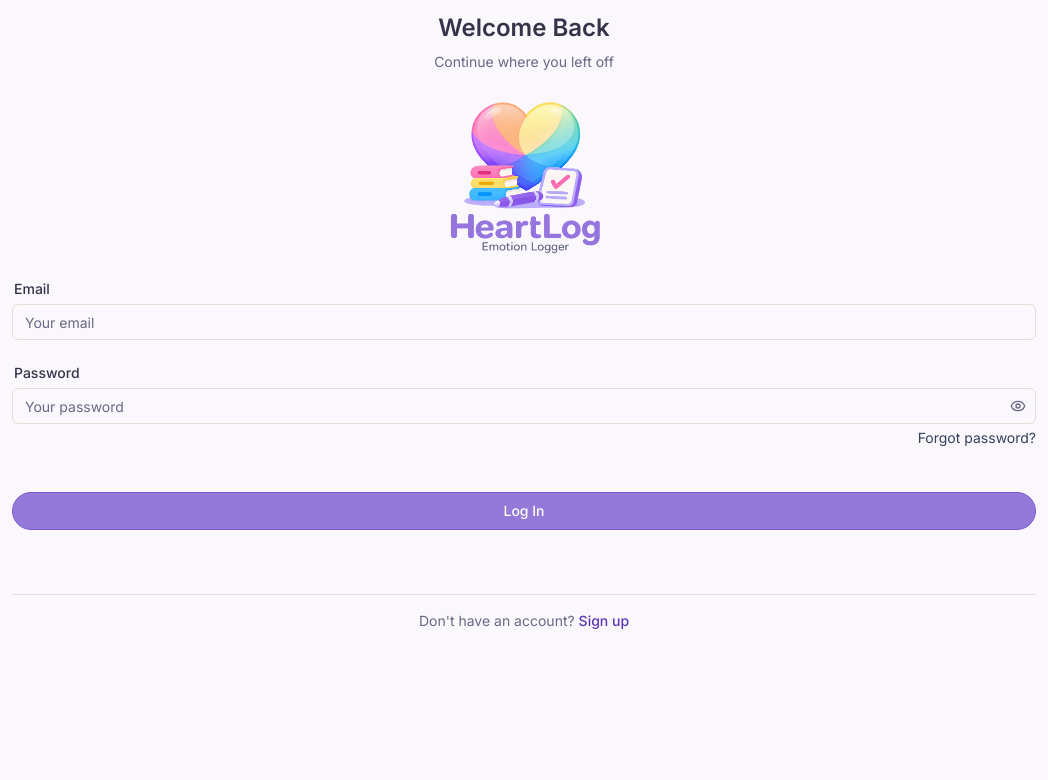
Test case: LoginForm › shows a validation message when a user submits without a password
Type "user@example.com" into the field labelled "Email" at (524, 322), box [12, 304, 1036, 340]
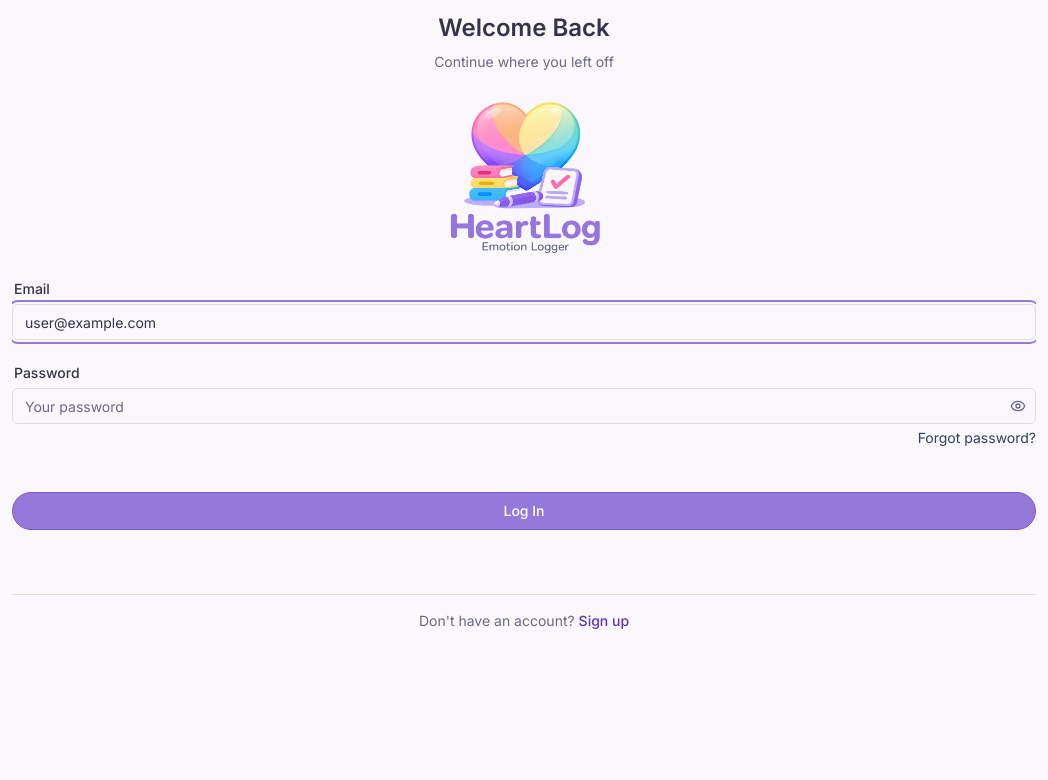
Click the button "Log In" at (524, 511), box [12, 492, 1036, 530]
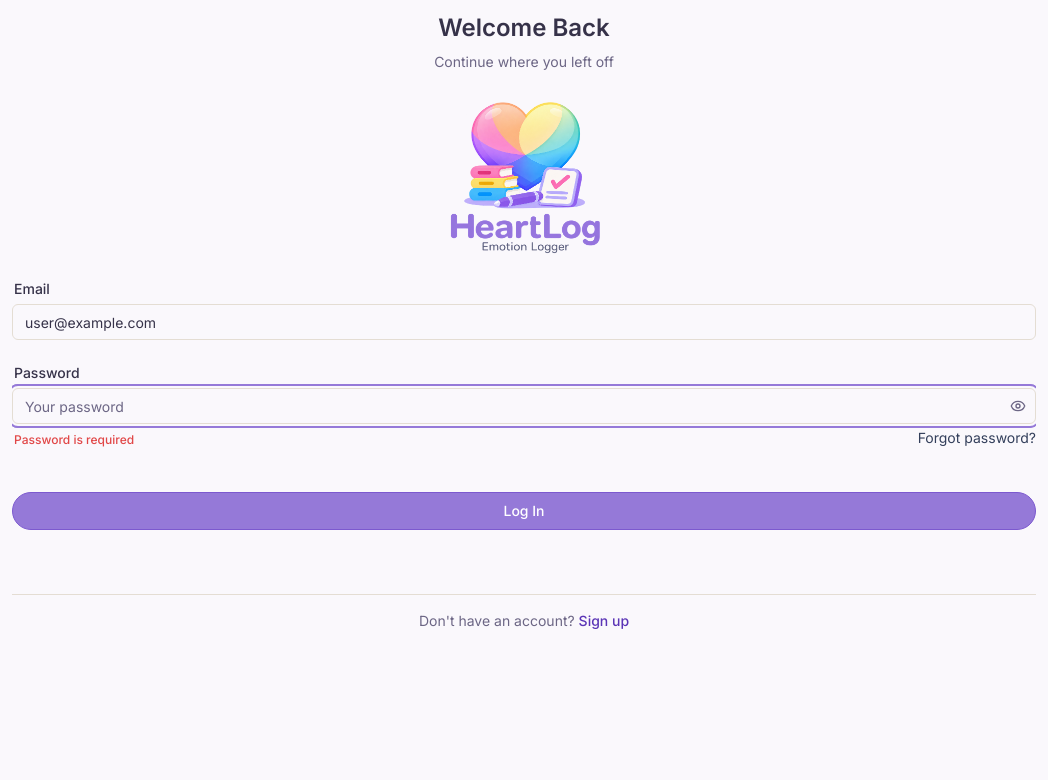
Expected: the text "Password is required" is shown, [14, 432, 134, 447]
